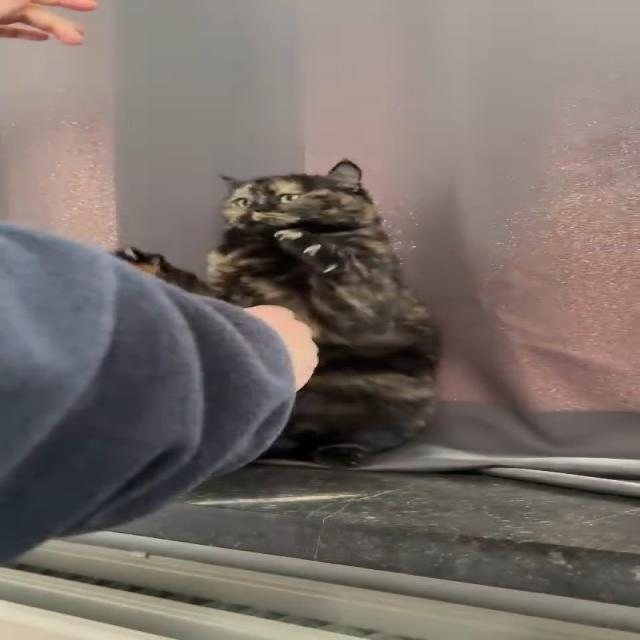authorized: (111, 158, 441, 467)
